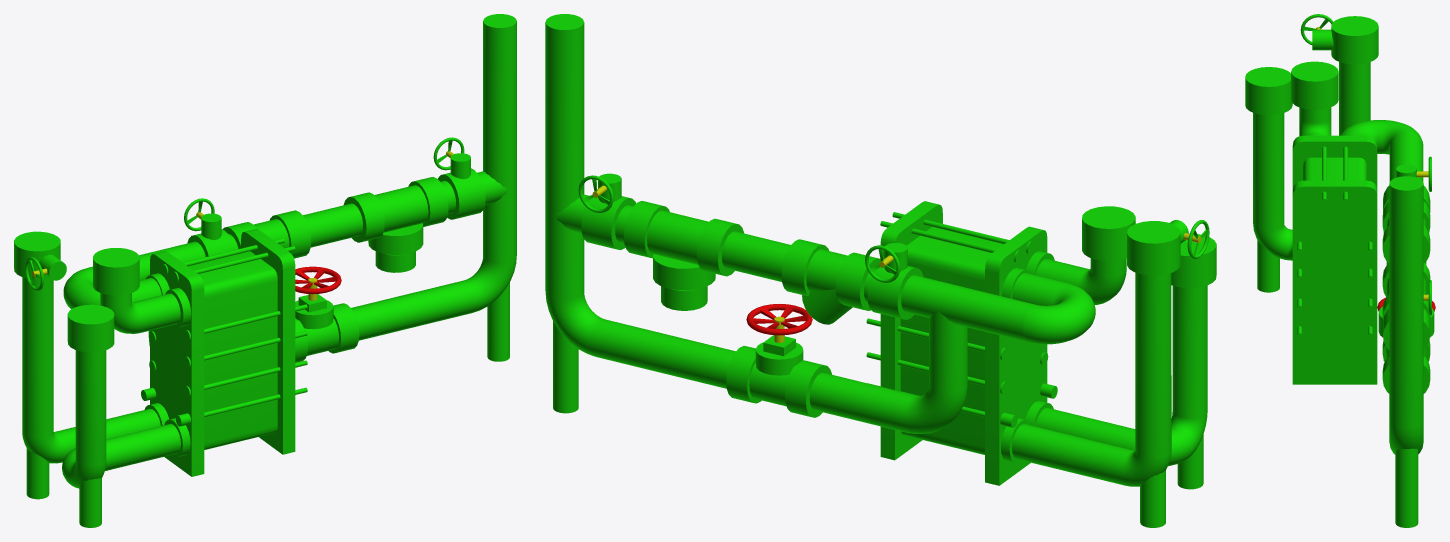
Rendered from Heat Exchanger_02.fbx.
3 views of the same model, side by side, from view 1: azimuth 30°, elevation 25°; view 2: azimuth 150°, elevation 25°; view 3: azimuth 270°, elevation 25° (orthographic). The views are drawn at different scales.
Parts seen in each view (by area): view 1: Heat Exchanger #2; view 2: Heat Exchanger #2; view 3: Heat Exchanger #2.
Boxes of the visible parts, x1,y1,x2,y2 form: Heat Exchanger #2: (14, 14, 516, 527); Heat Exchanger #2: (545, 14, 1216, 527); Heat Exchanger #2: (1245, 14, 1435, 527).
Size of the model in its own units: 5233 by 3201 by 1625.
